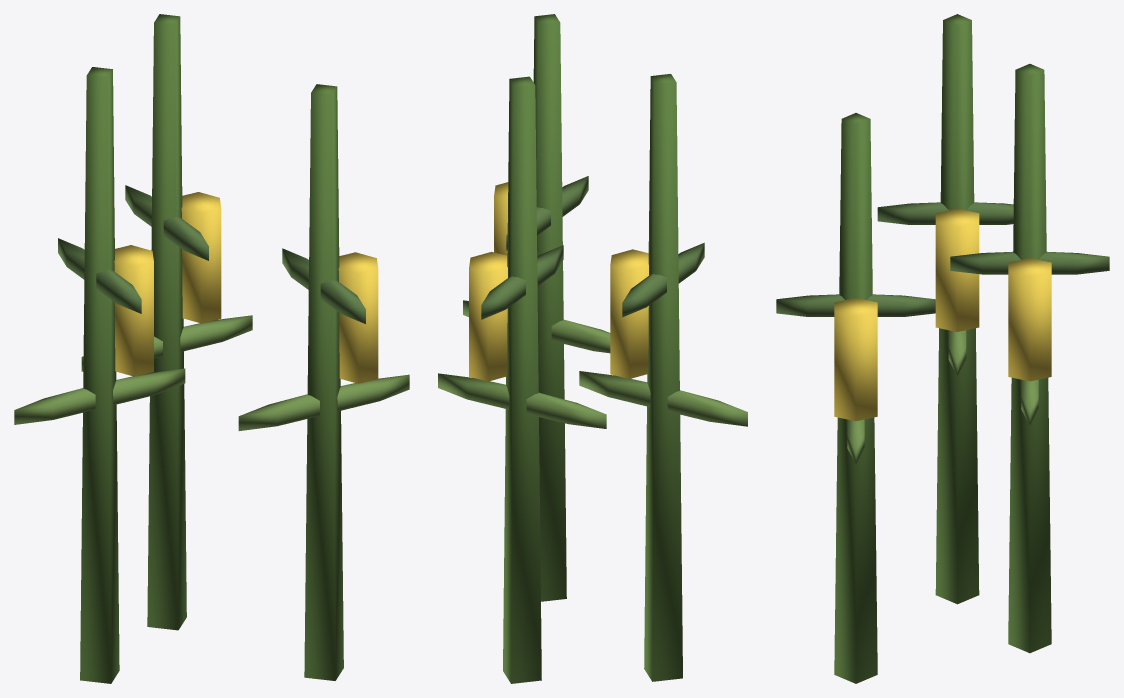
The model's file is corn_2.obj.
The picture shows the model from 3 angles, left to right: view 1: azimuth 30°, elevation 25°; view 2: azimuth 150°, elevation 25°; view 3: azimuth 270°, elevation 25°; orthographic projection. The views are drawn at different scales.
Visible parts, largest first — view 1: corn_2_component_01, corn_2_component_05, corn_2_component_09, corn_2_component_12, corn_2_component_08, corn_2_component_04, corn_2_component_02, corn_2_component_06, corn_2_component_03, corn_2_component_07, corn_2_component_11, corn_2_component_10; view 2: corn_2_component_01, corn_2_component_09, corn_2_component_05, corn_2_component_04, corn_2_component_12, corn_2_component_10, corn_2_component_02, corn_2_component_03, corn_2_component_11, corn_2_component_06, corn_2_component_07, corn_2_component_08; view 3: corn_2_component_09, corn_2_component_01, corn_2_component_05, corn_2_component_12, corn_2_component_08, corn_2_component_04, corn_2_component_11, corn_2_component_07, corn_2_component_03, corn_2_component_02, corn_2_component_10, corn_2_component_06.
Boxes of the visible parts, <box> form: corn_2_component_01: <box>80,67,119,683</box>; corn_2_component_05: <box>304,84,343,680</box>; corn_2_component_09: <box>147,14,186,630</box>; corn_2_component_12: <box>181,192,221,323</box>; corn_2_component_08: <box>338,252,378,383</box>; corn_2_component_04: <box>114,245,153,376</box>; corn_2_component_02: <box>14,368,185,424</box>; corn_2_component_06: <box>238,374,409,430</box>; corn_2_component_03: <box>58,238,141,313</box>; corn_2_component_07: <box>282,248,365,323</box>; corn_2_component_11: <box>125,185,208,260</box>; corn_2_component_10: <box>81,315,252,371</box>; corn_2_component_01: <box>644,74,682,681</box>; corn_2_component_09: <box>503,76,541,683</box>; corn_2_component_05: <box>533,14,566,601</box>; corn_2_component_04: <box>610,249,648,378</box>; corn_2_component_12: <box>469,252,507,381</box>; corn_2_component_10: <box>438,373,606,428</box>; corn_2_component_02: <box>579,371,747,426</box>; corn_2_component_03: <box>622,242,704,317</box>; corn_2_component_11: <box>481,245,563,319</box>; corn_2_component_06: <box>463,300,610,353</box>; corn_2_component_07: <box>506,176,588,250</box>; corn_2_component_08: <box>494,182,508,255</box>; corn_2_component_09: <box>1008,64,1051,653</box>; corn_2_component_01: <box>935,14,979,604</box>; corn_2_component_05: <box>834,113,877,683</box>; corn_2_component_12: <box>1008,258,1051,381</box>; corn_2_component_08: <box>834,298,877,421</box>; corn_2_component_04: <box>935,209,979,331</box>; corn_2_component_11: <box>950,251,1109,274</box>; corn_2_component_07: <box>776,294,935,316</box>; corn_2_component_03: <box>877,202,1013,224</box>; corn_2_component_02: <box>948,330,966,375</box>; corn_2_component_10: <box>1021,379,1038,424</box>; corn_2_component_06: <box>847,419,864,463</box>.
Bounding box in the file's own units: 0.52 × 0.8757 × 0.46.
